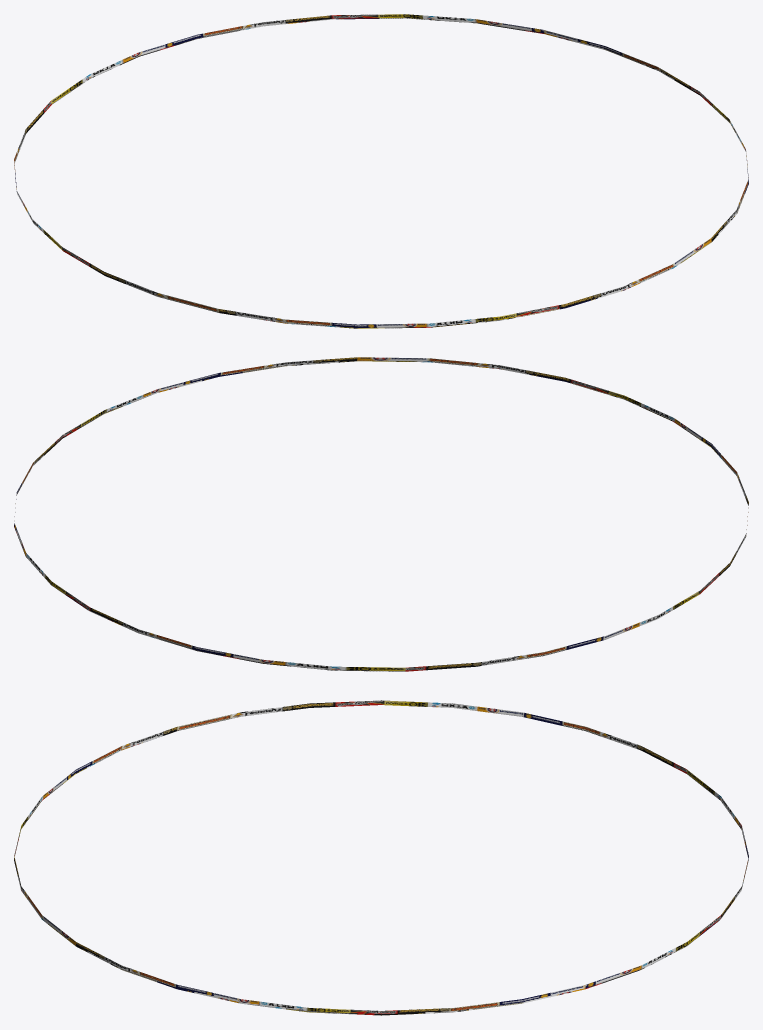
The model's file is Advertise strip.fbx.
3 views of the same model, one above another, from view 1: azimuth 30°, elevation 25°; view 2: azimuth 150°, elevation 25°; view 3: azimuth 270°, elevation 25° (orthographic).
Parts seen in each view (by area): view 1: Circle.008; view 2: Circle.008; view 3: Circle.008.
Boxes of the visible parts, bbox=[...] form: Circle.008: bbox=[14, 14, 748, 328]; Circle.008: bbox=[14, 357, 748, 671]; Circle.008: bbox=[14, 700, 748, 1015].
Bounding box in the file's own units: 17764 × 114 × 17756.
Materials: 1 (1 with a texture image).
